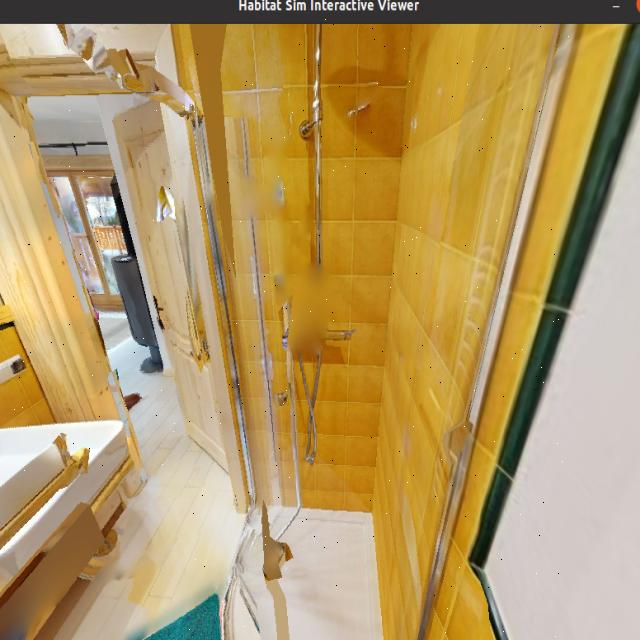door-frame: (14, 97, 241, 476)
shower: (185, 13, 569, 640)
